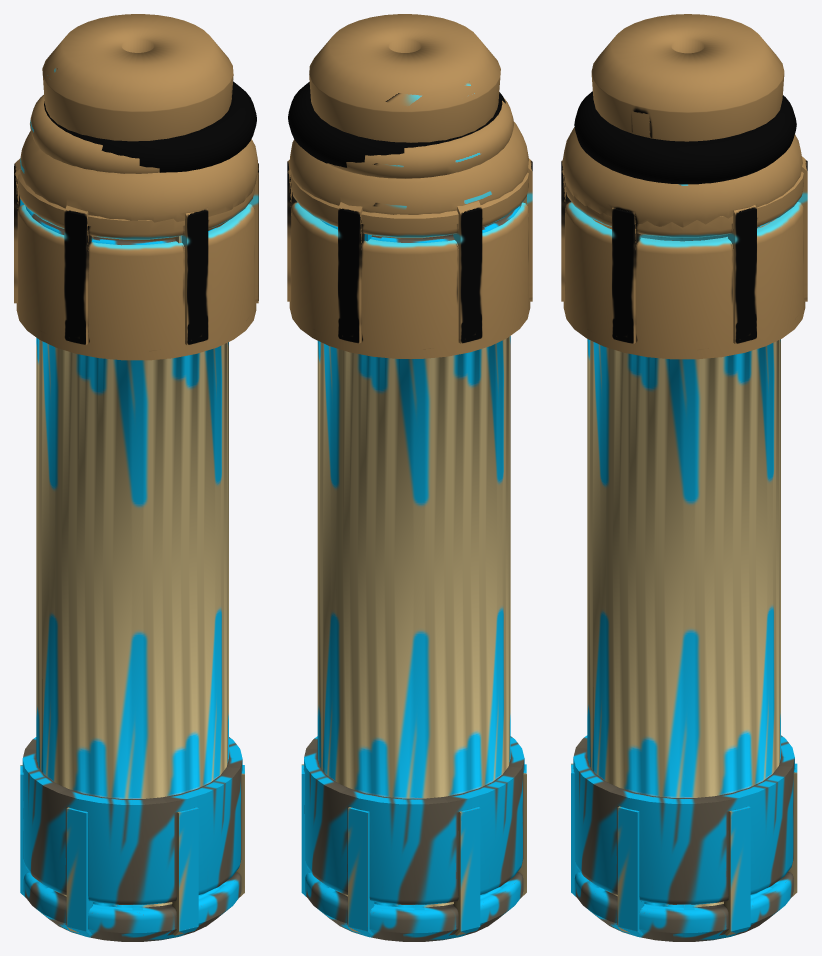
Rendered from powercellllll.fbx.
3 renders of one model, left to right at view 1: azimuth 30°, elevation 25°; view 2: azimuth 150°, elevation 25°; view 3: azimuth 270°, elevation 25°, orthographic.
Visible parts, largest first — view 1: EnergyCell_2.005, EnergyCell_2.002, Torus; view 2: EnergyCell_2.005, EnergyCell_2.002, Torus; view 3: EnergyCell_2.005, EnergyCell_2.002, Torus.
Boxes of the visible parts, bbox=[...] form: EnergyCell_2.005: bbox=[20, 199, 244, 941]; EnergyCell_2.002: bbox=[14, 14, 258, 360]; Torus: bbox=[44, 81, 256, 172]; EnergyCell_2.005: bbox=[301, 196, 526, 941]; EnergyCell_2.002: bbox=[287, 14, 532, 358]; Torus: bbox=[288, 82, 505, 167]; EnergyCell_2.005: bbox=[571, 220, 797, 941]; EnergyCell_2.002: bbox=[561, 14, 807, 359]; Torus: bbox=[574, 91, 796, 184].
Size of the model in its own units: 31.63 by 123 by 31.96.
Materials: 3 (2 with a texture image).
